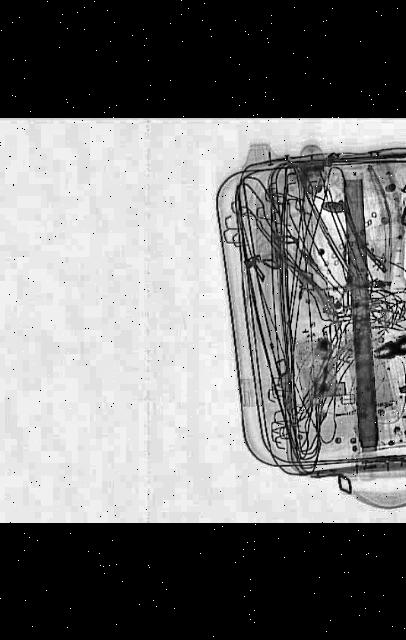Pliers: (364, 316, 406, 369)
